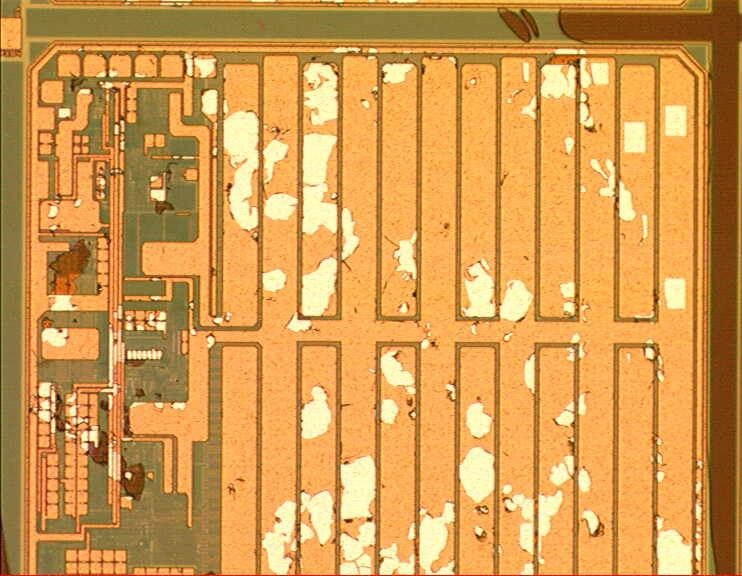BLOCK ETCH: (1, 3, 709, 576)
